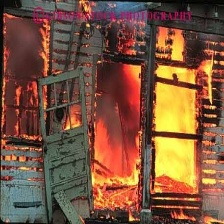fire: (97, 56, 217, 217), (2, 8, 47, 173)
